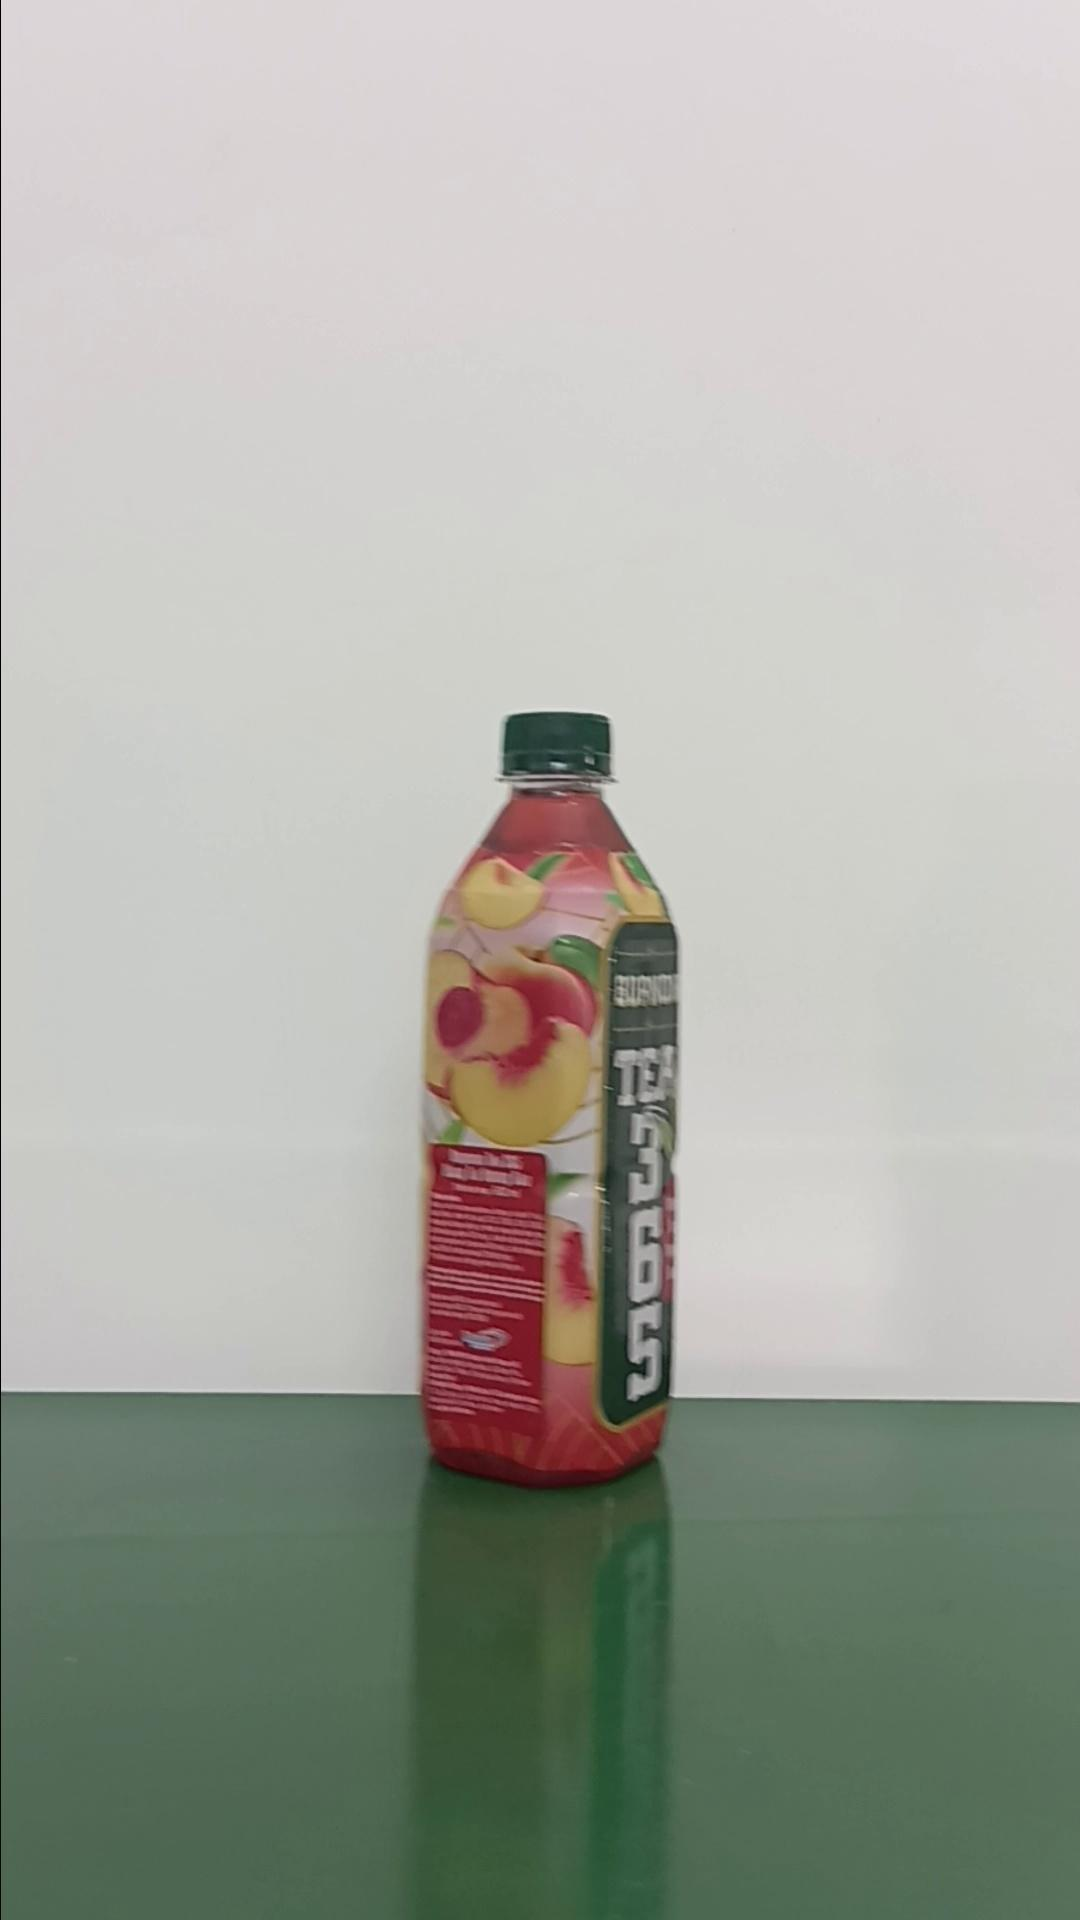khong loi: (415, 707, 682, 1487)
